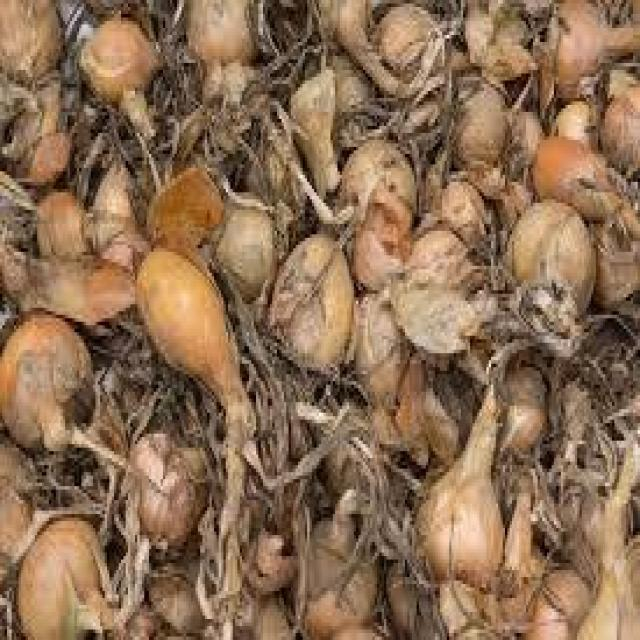Onion: (136, 243, 257, 544), (249, 0, 354, 189), (412, 380, 505, 582), (18, 517, 151, 640), (393, 217, 498, 367), (2, 308, 96, 462), (510, 203, 598, 353), (274, 235, 358, 382), (530, 133, 640, 245), (296, 507, 384, 633), (543, 0, 638, 101), (338, 136, 418, 252), (207, 201, 291, 310), (321, 0, 409, 101), (128, 434, 207, 546), (91, 159, 163, 268), (79, 18, 165, 102), (323, 398, 384, 504), (464, 0, 541, 80), (352, 283, 402, 406), (34, 190, 120, 260), (377, 10, 447, 94), (144, 563, 219, 640), (498, 360, 549, 469), (458, 80, 509, 182), (2, 0, 63, 84), (526, 566, 591, 640), (182, 0, 254, 63), (598, 73, 640, 175), (438, 175, 491, 241), (503, 103, 542, 177), (550, 100, 594, 142)
